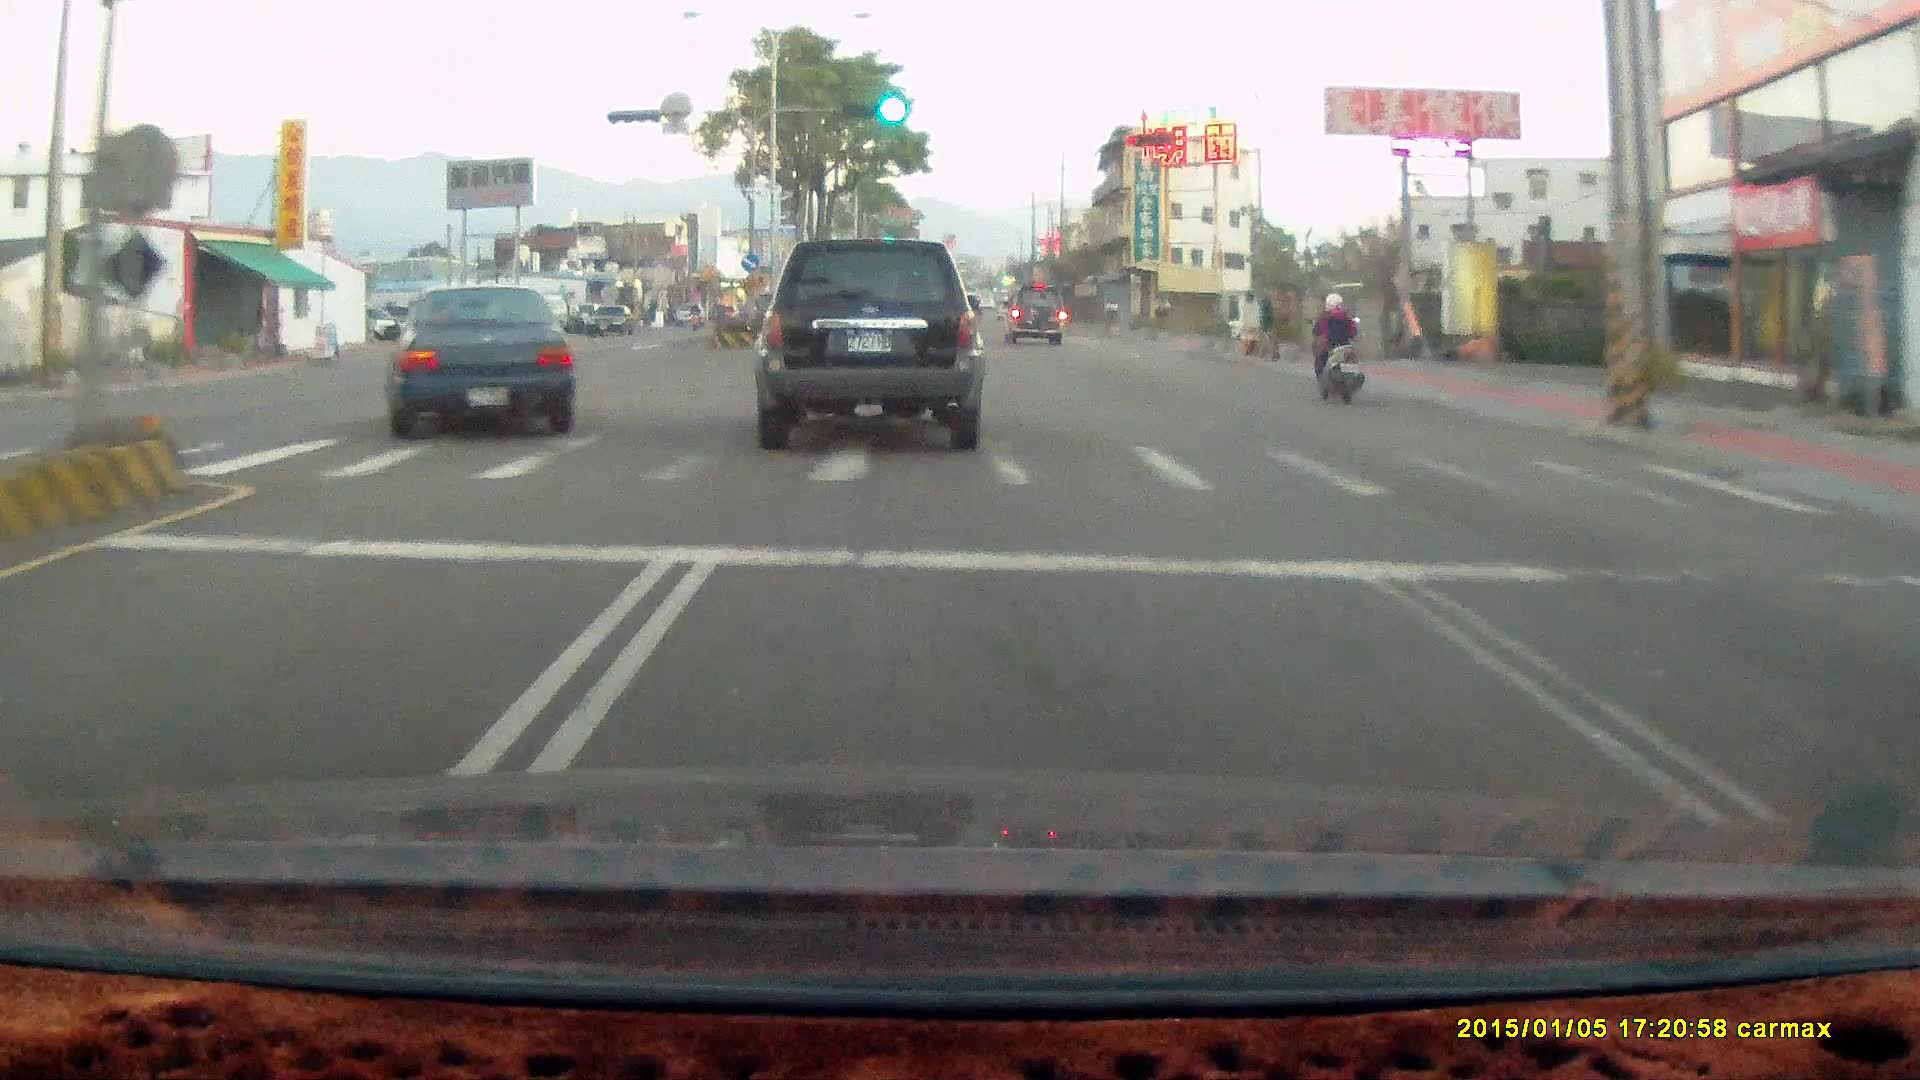rider: (1296, 281, 1376, 412), (1305, 287, 1365, 404)
vehicle: (758, 243, 987, 457), (753, 239, 983, 451), (381, 280, 575, 440), (386, 279, 575, 441), (1002, 285, 1070, 351), (1000, 282, 1064, 343), (583, 302, 634, 336)
